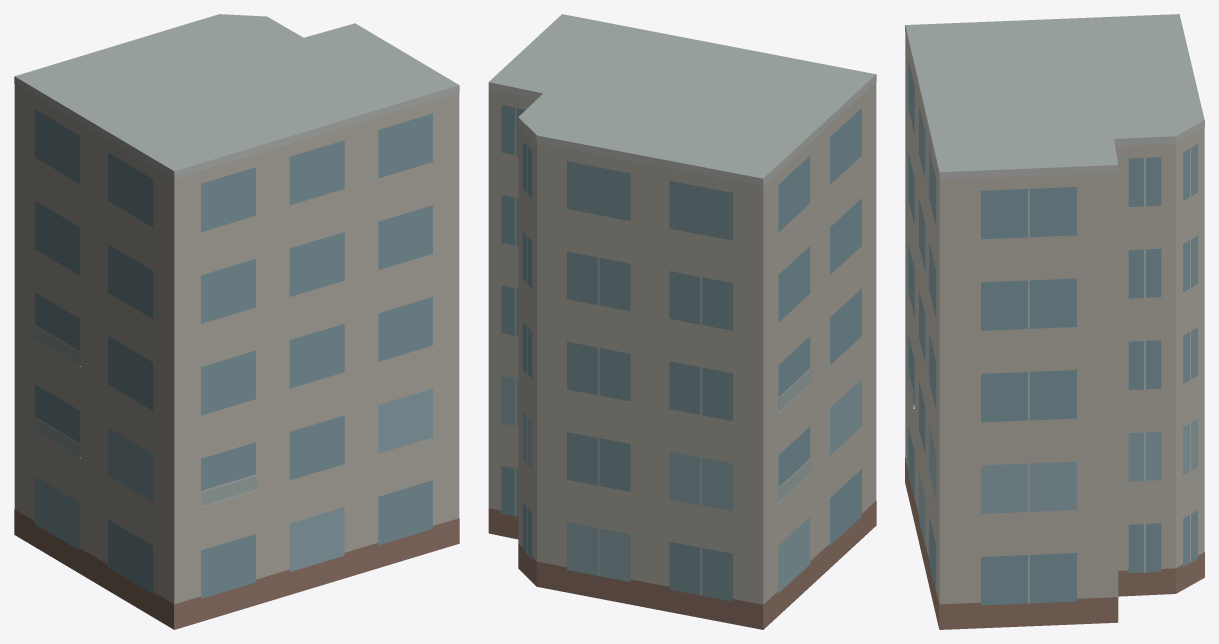
Rendered from survey-upis-32630737.glb.
3 views of the same model, side by side, from view 1: azimuth 30°, elevation 25°; view 2: azimuth 150°, elevation 25°; view 3: azimuth 270°, elevation 25° (orthographic).
Parts seen in each view (by area): view 1: survey-upis-32630737.tmp; view 2: survey-upis-32630737.tmp; view 3: survey-upis-32630737.tmp.
Part boxes in pixels (x1,y1,x2,y2): survey-upis-32630737.tmp: (14, 14, 459, 629); survey-upis-32630737.tmp: (488, 14, 876, 629); survey-upis-32630737.tmp: (905, 14, 1204, 629).
Bounding box in the file's own units: 10.98 × 14.8 × 8.79.
